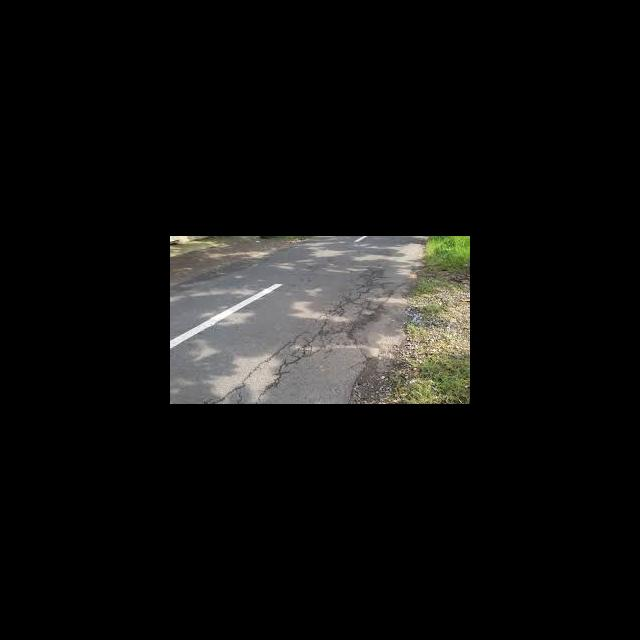retak_kulit_buaya: (312, 262, 390, 336)
retak_memanjang: (210, 334, 312, 404)
